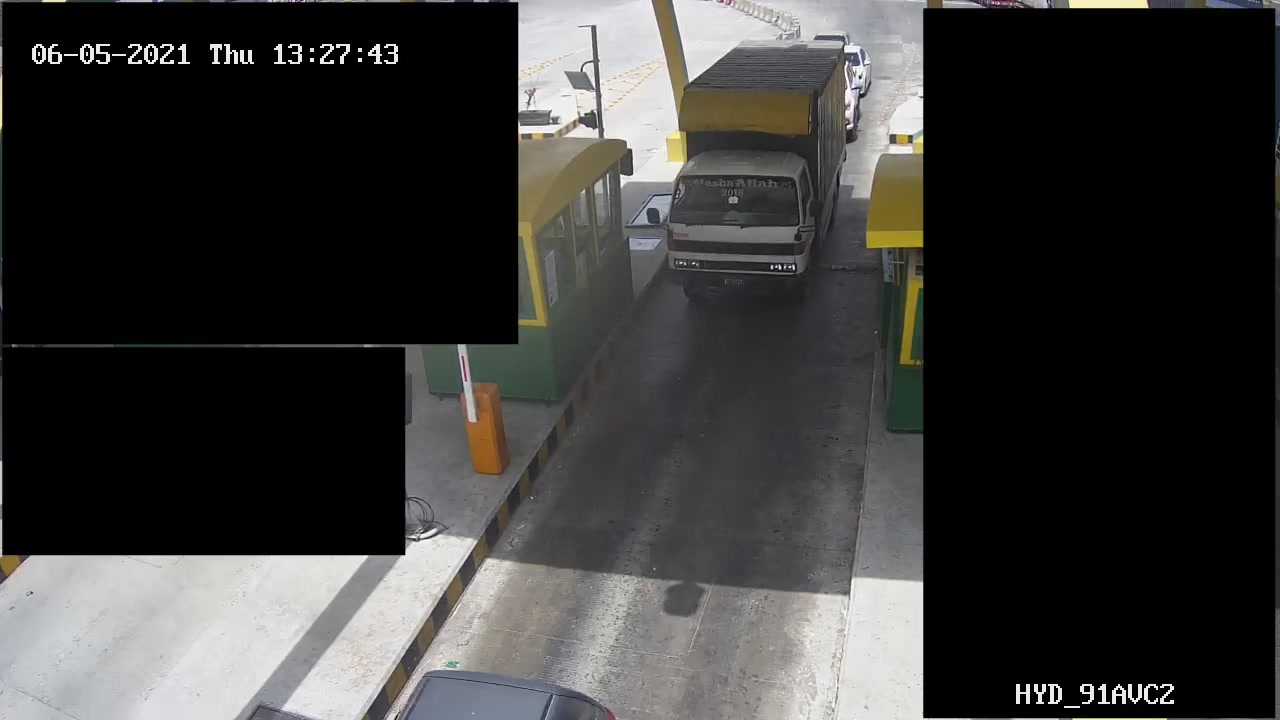F5: (668, 32, 848, 317)
